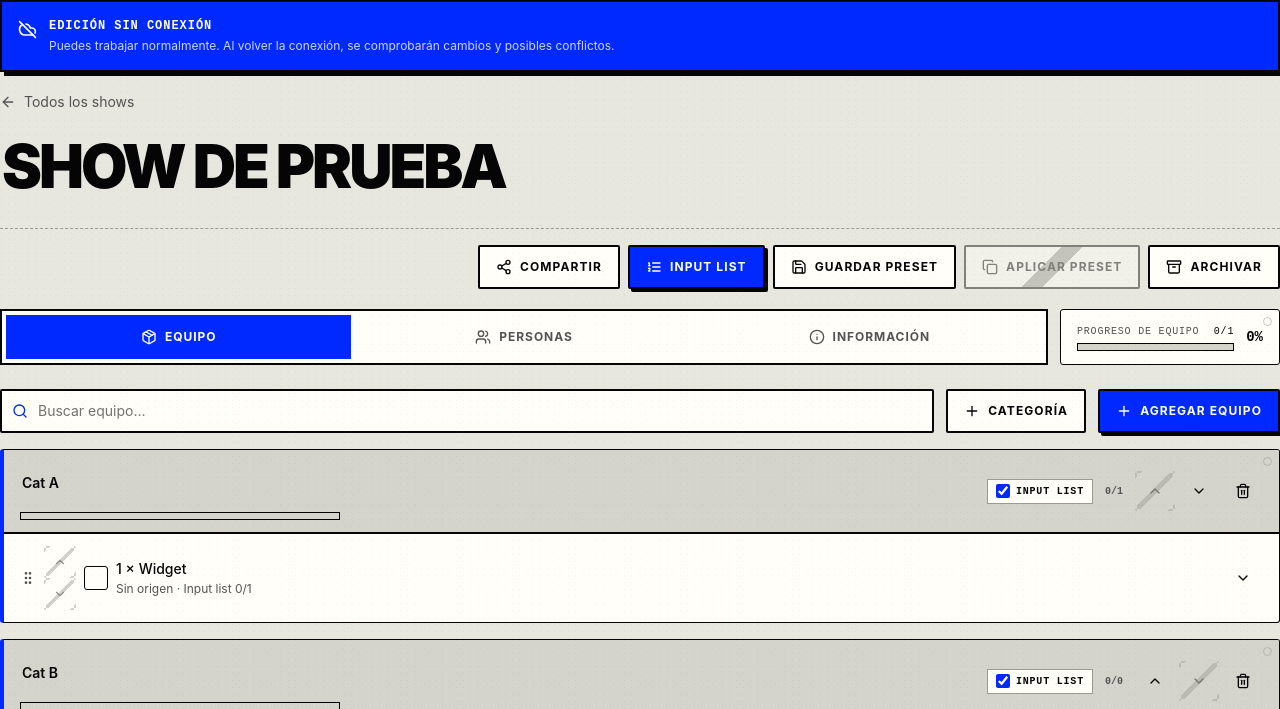
Test: Equipment keyboard reordering (no drag & drop required) › 7. moves an item to a different category through an accessible control, without a drag event
Expected: the text "1 × Widget" is shown, [116,560,186,577]
Step 1. Click the button named "Editar" → (1243,578), box [1223,558,1263,598]
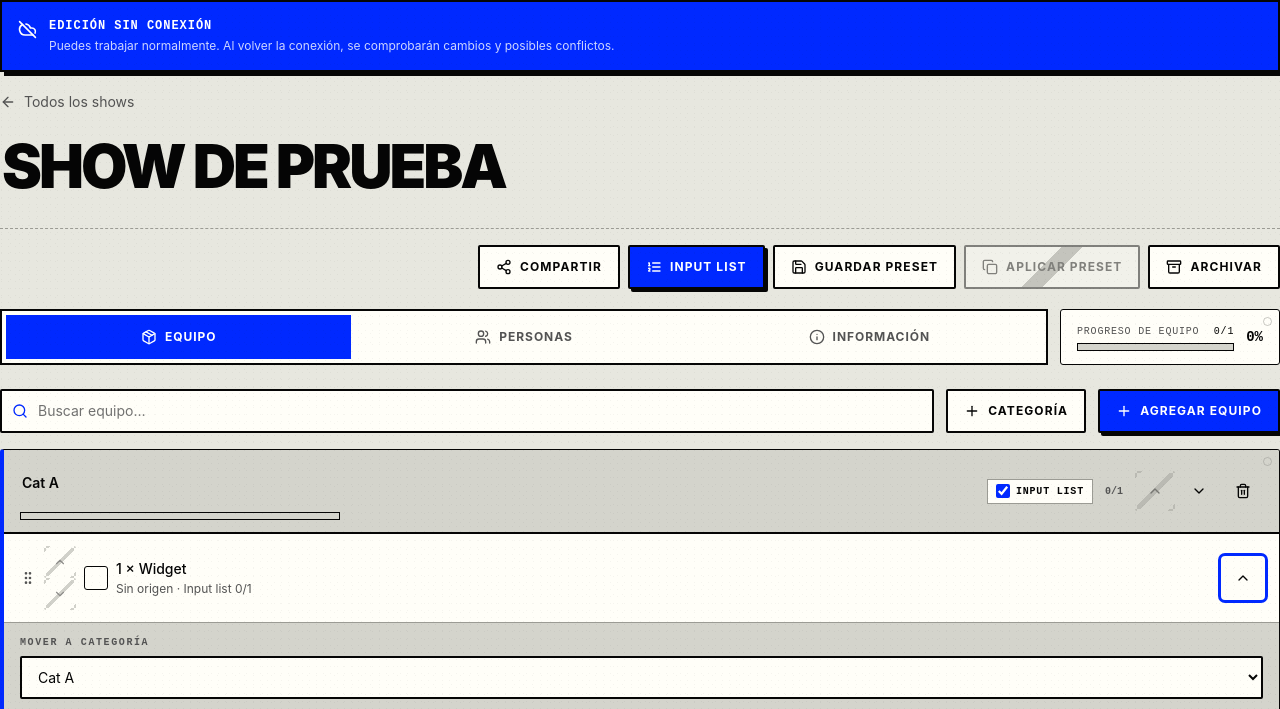
Step 2. Select "Cat B" in the dropdown labelled "Mover a categoría" → (642,678), box [20,656,1263,699]
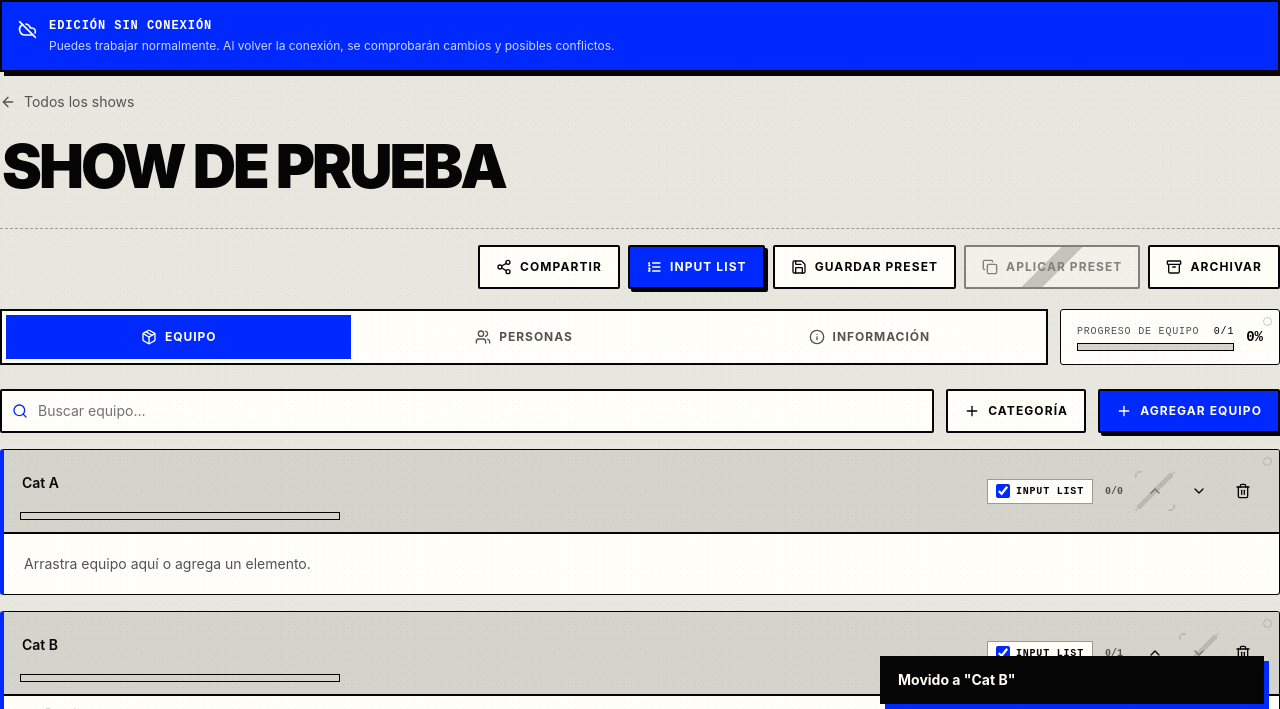
Expected: the text "Movido a \"Cat B\"" is shown, [898,670,1015,690]
